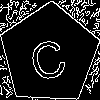C: (24, 29, 70, 83)
